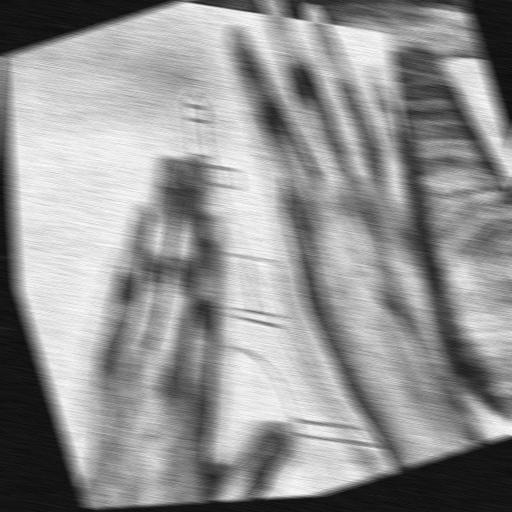eiffel-tower: (56, 33, 391, 488)
top_right: (382, 29, 394, 38)
